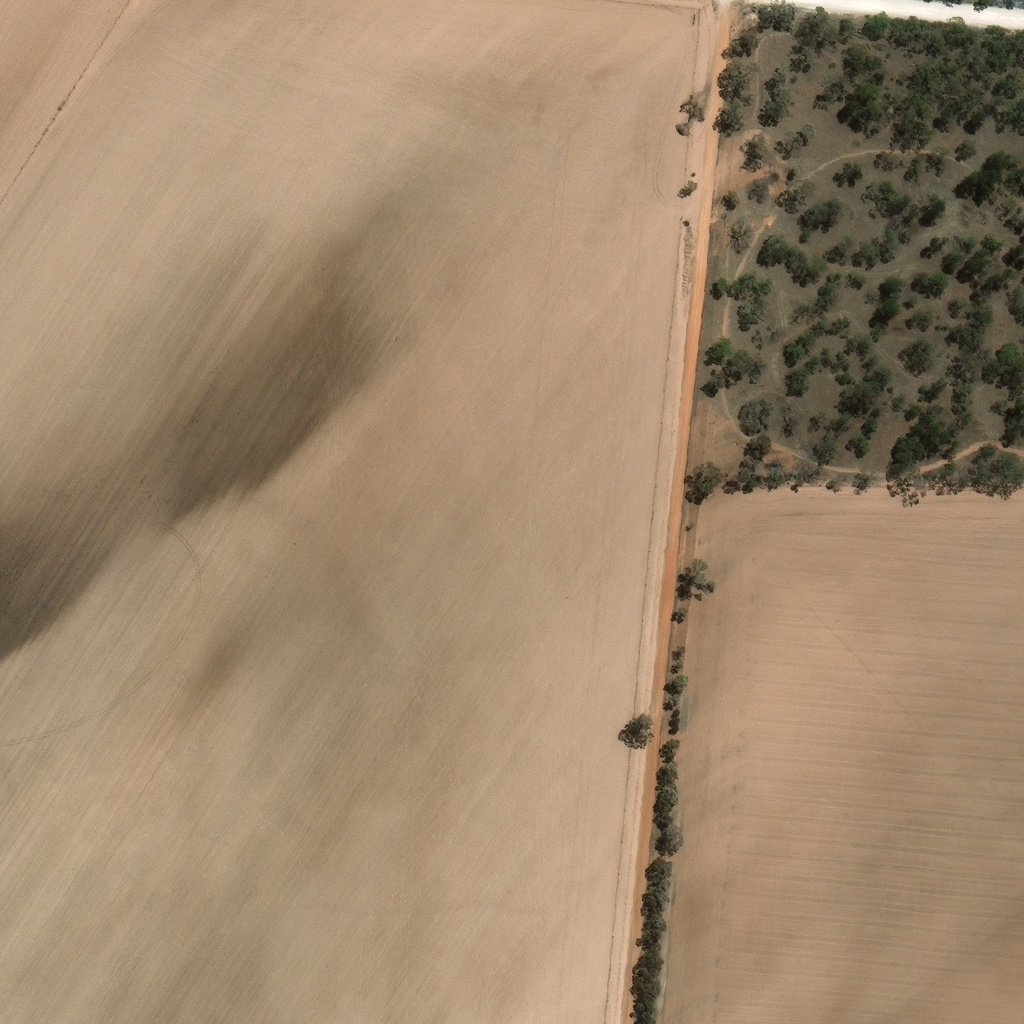4 un-classified: (220, 128, 231, 138)
